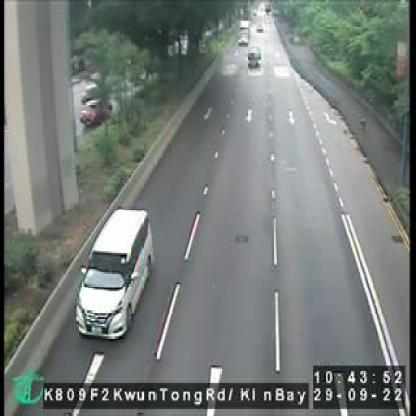Car: (75, 204, 150, 340), (78, 94, 112, 130), (244, 47, 262, 71)
